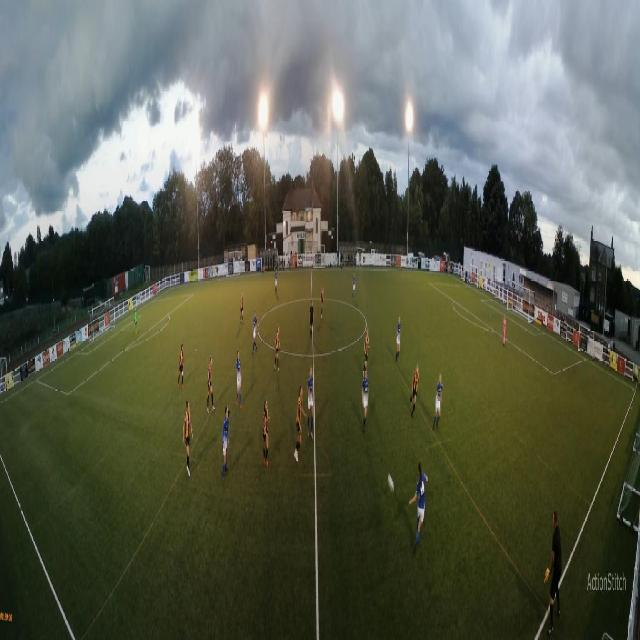ball: (387, 467, 394, 495)
player: (409, 455, 429, 555), (184, 397, 192, 475), (296, 385, 304, 463), (410, 361, 420, 419), (433, 370, 442, 430), (222, 400, 228, 477), (308, 364, 314, 440), (362, 367, 368, 432), (236, 349, 242, 411), (208, 354, 214, 414), (264, 399, 269, 466), (275, 323, 281, 373), (179, 341, 184, 388), (397, 309, 401, 360), (365, 326, 370, 365), (253, 308, 257, 354), (310, 298, 314, 338), (240, 292, 244, 327), (353, 270, 357, 304), (502, 313, 506, 345), (134, 307, 138, 336), (321, 284, 324, 318), (275, 267, 278, 297)
